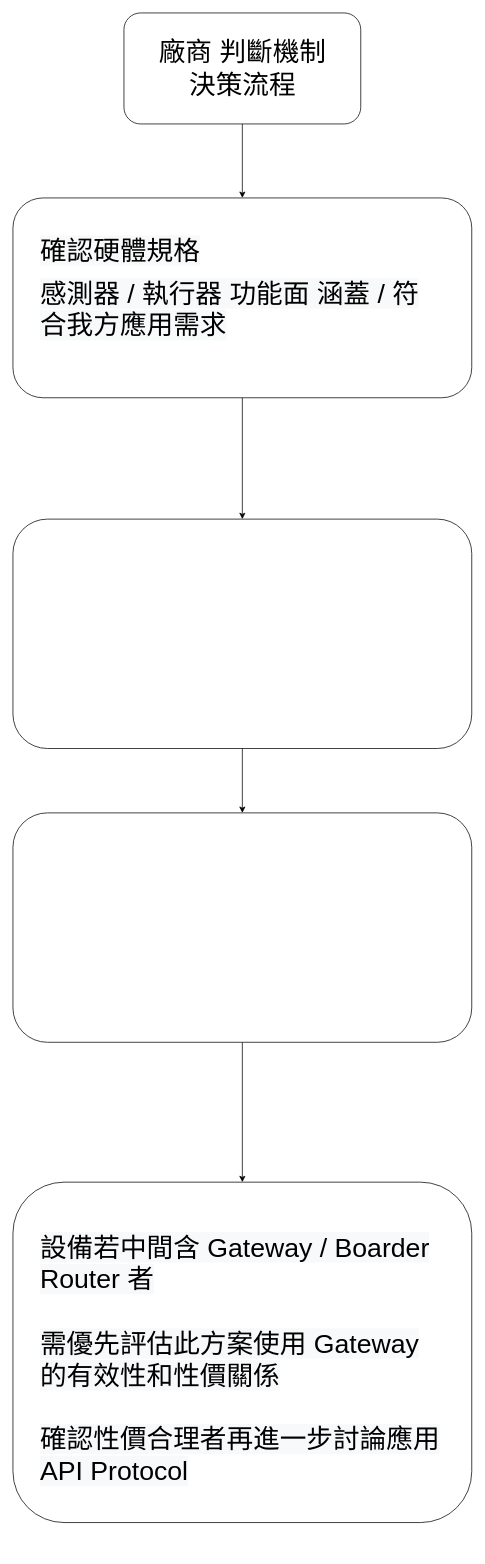
Image size: 485x1564. Some labels were removed from this diagram. The centre of each missing label's shape, as x and y in pixels:
設備 (獨立 or 搭配 gateway) 含 WWW 網際網路連線能力: the point at 242,633
設備能夠獨立連ＷＷＷ網際網路 且支援 MQTT 通訊 Protocol 者 可直接討論應用層 API Protocol: the point at 242,927
